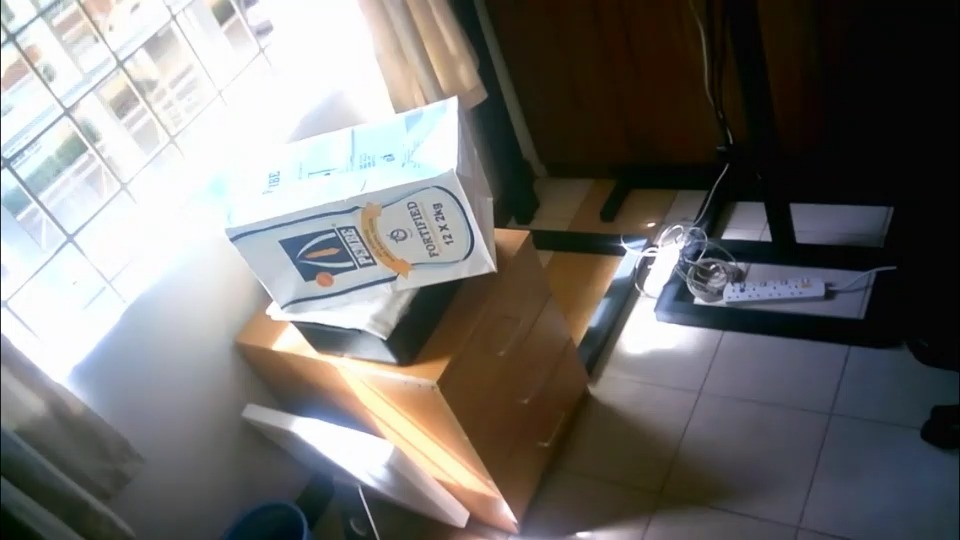wheat_flour_blue_label: (223, 96, 499, 309)
